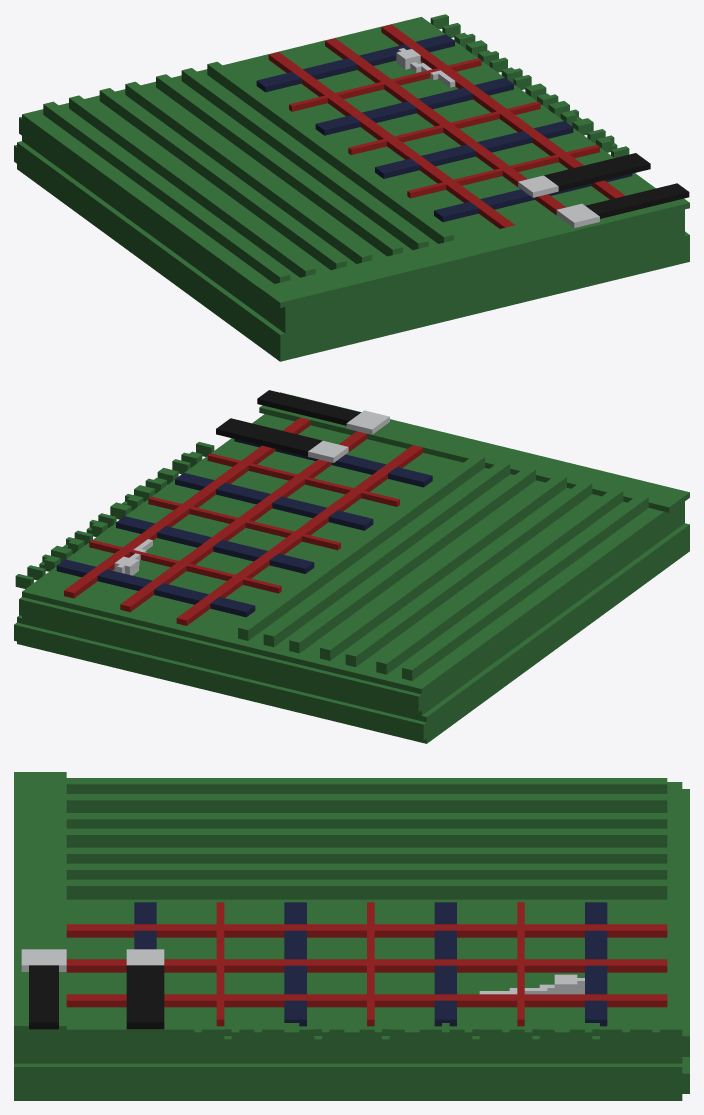
The model's file is kilt.glb.
3 renders of one model, top to bottom at view 1: azimuth 30°, elevation 25°; view 2: azimuth 150°, elevation 25°; view 3: azimuth 270°, elevation 25°, orthographic. The views are drawn at different scales.
Visible parts, largest first — view 1: kilt:compound; view 2: kilt:compound; view 3: kilt:compound.
Part boxes in pixels (<box>): kilt:compound: <box>14,14,689,361</box>; kilt:compound: <box>14,390,689,743</box>; kilt:compound: <box>14,772,689,1100</box>.
Size of the model in its own units: 0.328 by 0.048 by 0.36.
